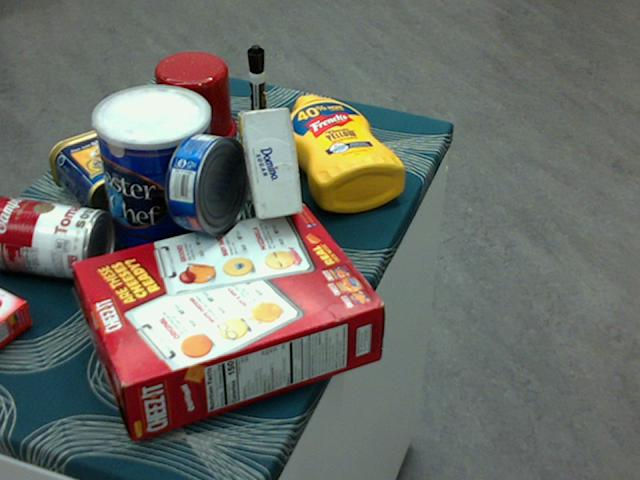cracker_box: (73, 204, 383, 439)
gelatin_box: (0, 286, 34, 349)
large_marker: (247, 44, 266, 148)
master_chef_can: (92, 86, 215, 271)
mug: (153, 52, 236, 152)
mustard_bottle: (282, 94, 404, 212)
potted_meat_can: (49, 121, 176, 220)
sugar_box: (235, 108, 301, 219)
tomato_soup_can: (0, 192, 114, 281)
tuna_fish_can: (164, 132, 249, 234)
